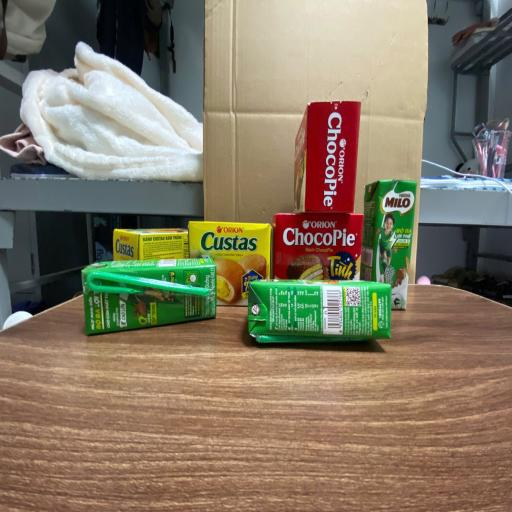chocopie: (294, 100, 361, 214), (274, 212, 363, 282)
custas: (188, 221, 273, 306), (114, 229, 189, 261)
milo: (81, 256, 217, 334), (247, 280, 392, 344), (360, 180, 418, 308)
